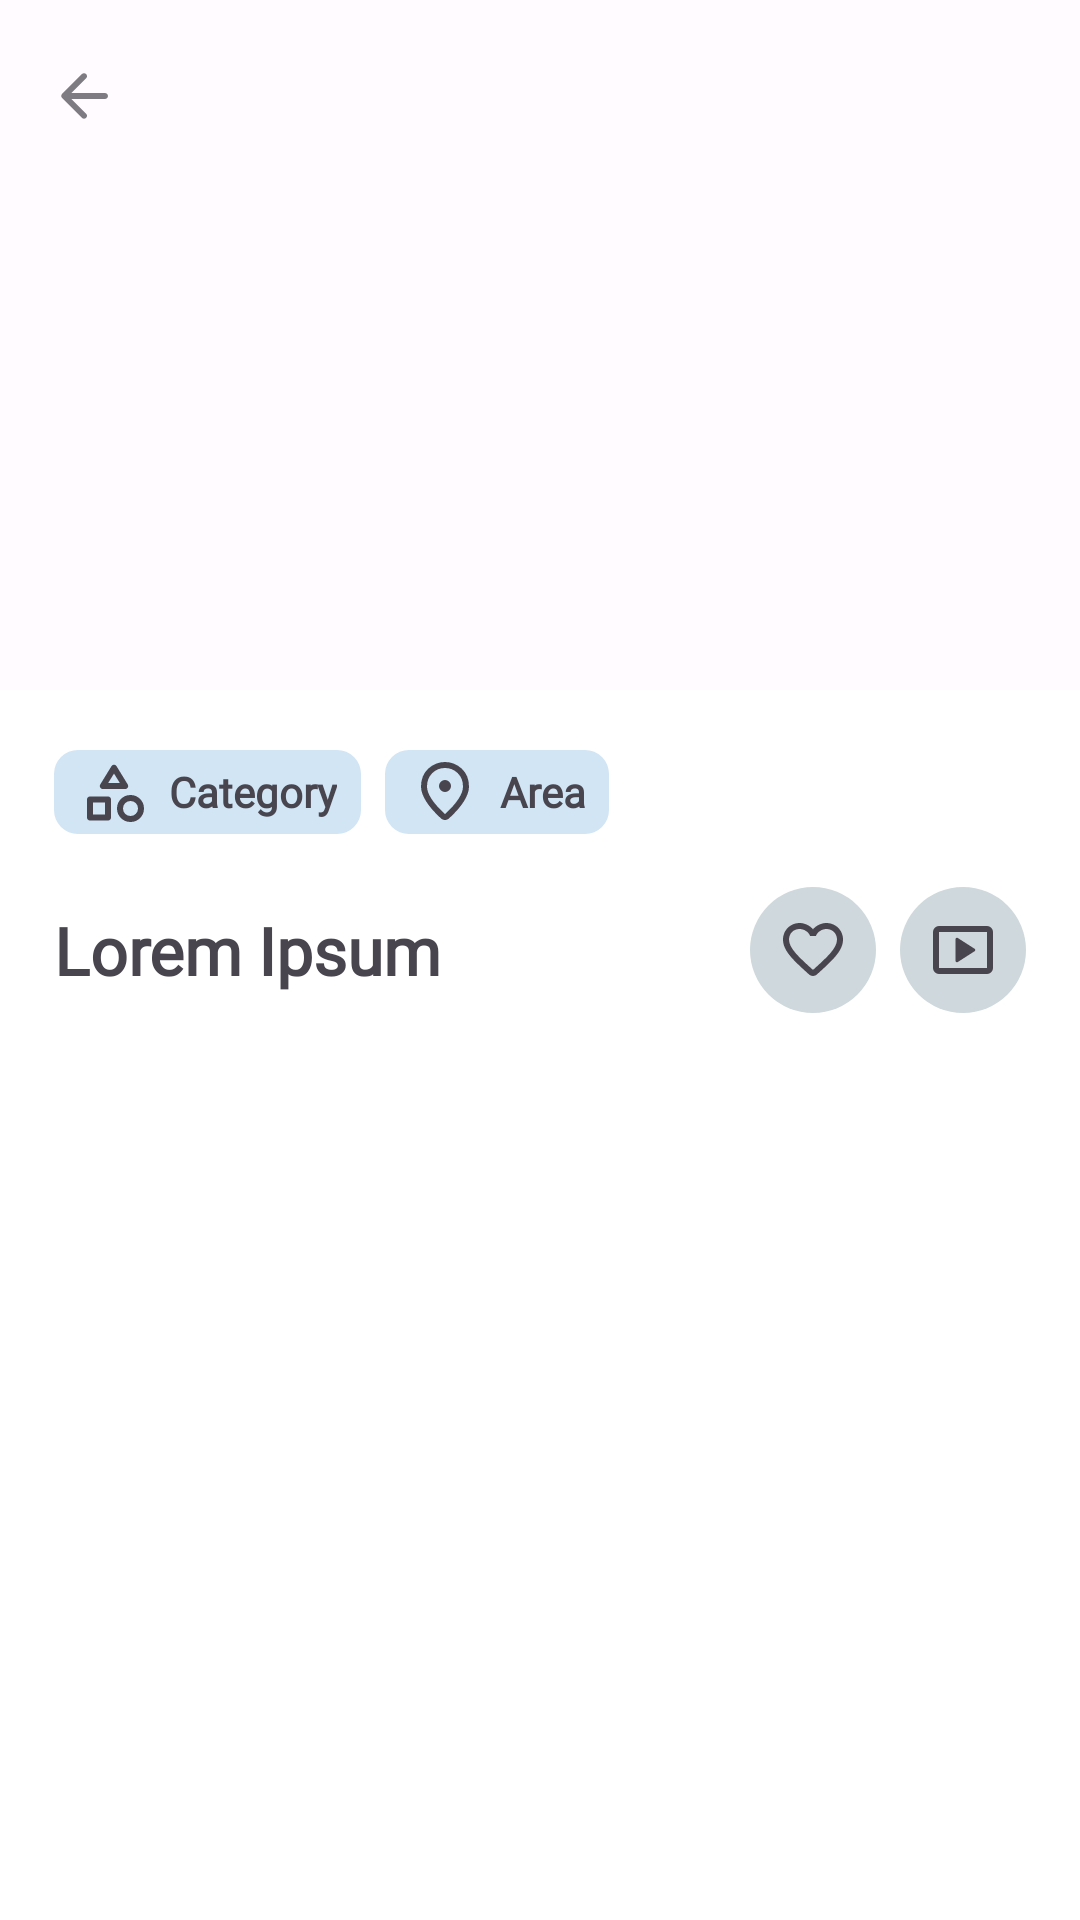

Named icons in this screenshot (1080 x 1920) and their centers, [x,y]:
favorite: [813,950]
play: [963,950]
